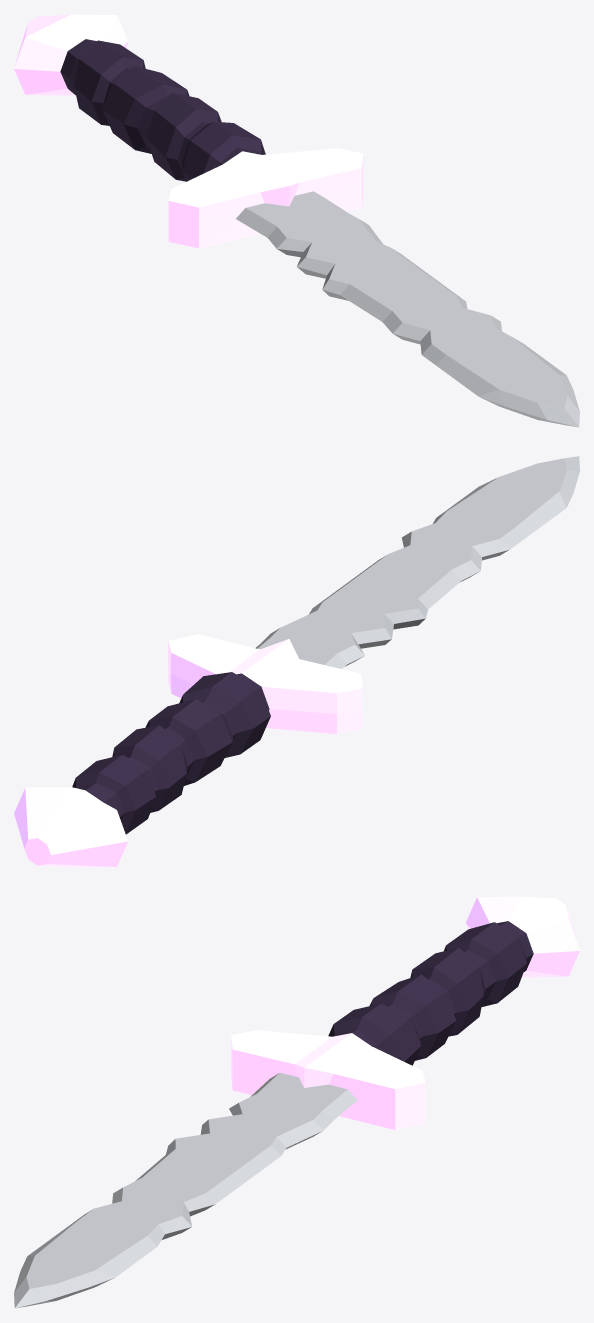
The model's file is feather.glb.
3 views of the same model, one above another, from view 1: azimuth 30°, elevation 25°; view 2: azimuth 150°, elevation 25°; view 3: azimuth 330°, elevation 25° (orthographic).
Parts seen in each view (by area): view 1: Feather; view 2: Feather; view 3: Feather.
Part boxes in pixels (left/top/right/bottom): Feather: left=14, top=14, right=579, bottom=427; Feather: left=14, top=456, right=579, bottom=867; Feather: left=14, top=896, right=579, bottom=1308.
Bounding box in the file's own units: 0.1286 × 0.0512 × 0.62.
